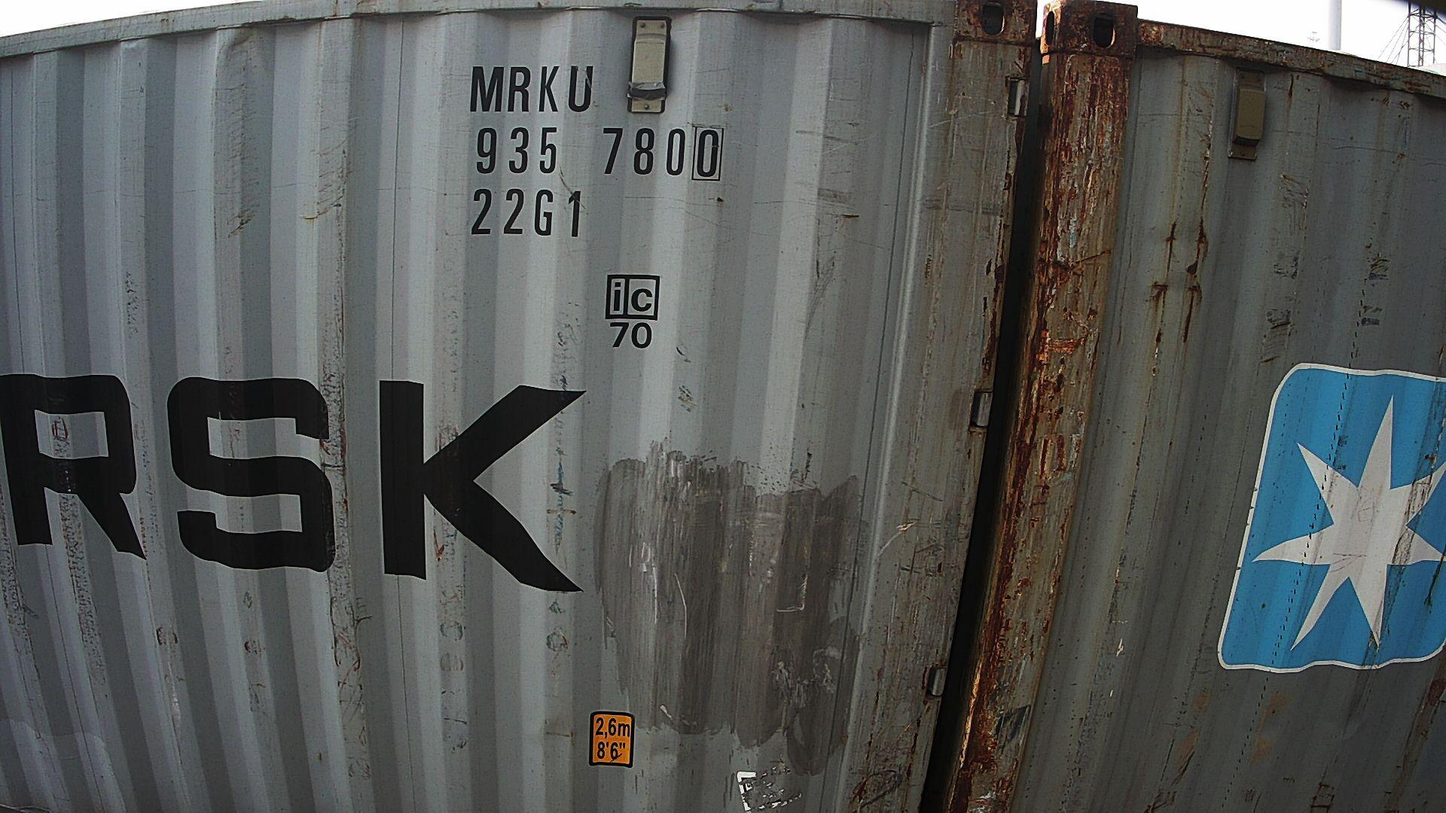container-numbers: (469, 122, 728, 184), (465, 61, 598, 118), (465, 187, 587, 242)
